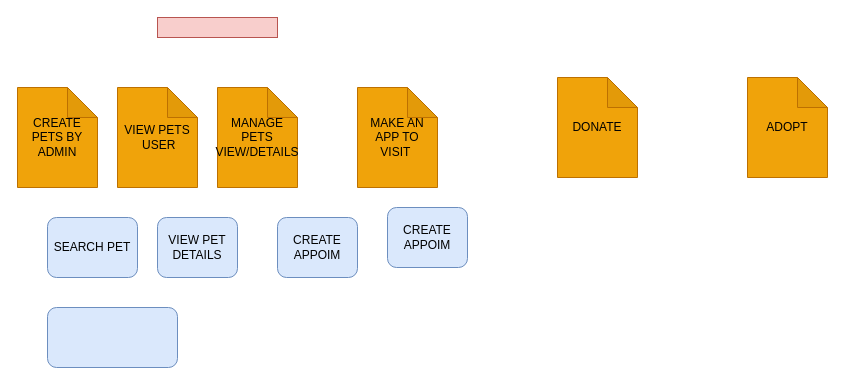
Some shapes in this 845 by 385 pixel diagram are drawn without their labels. The shapes that lost their labels are listed below. From the top down, each one's centre as x and y in pixels, then its label:
At [217,27]: "STORY MAPPING".
At [112,337]: "SEARCH BY CATEGORY".
